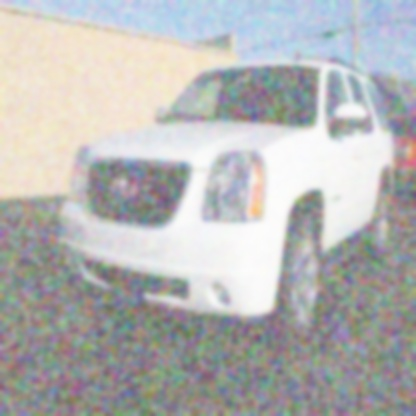Vehicle: (60, 50, 398, 348)
